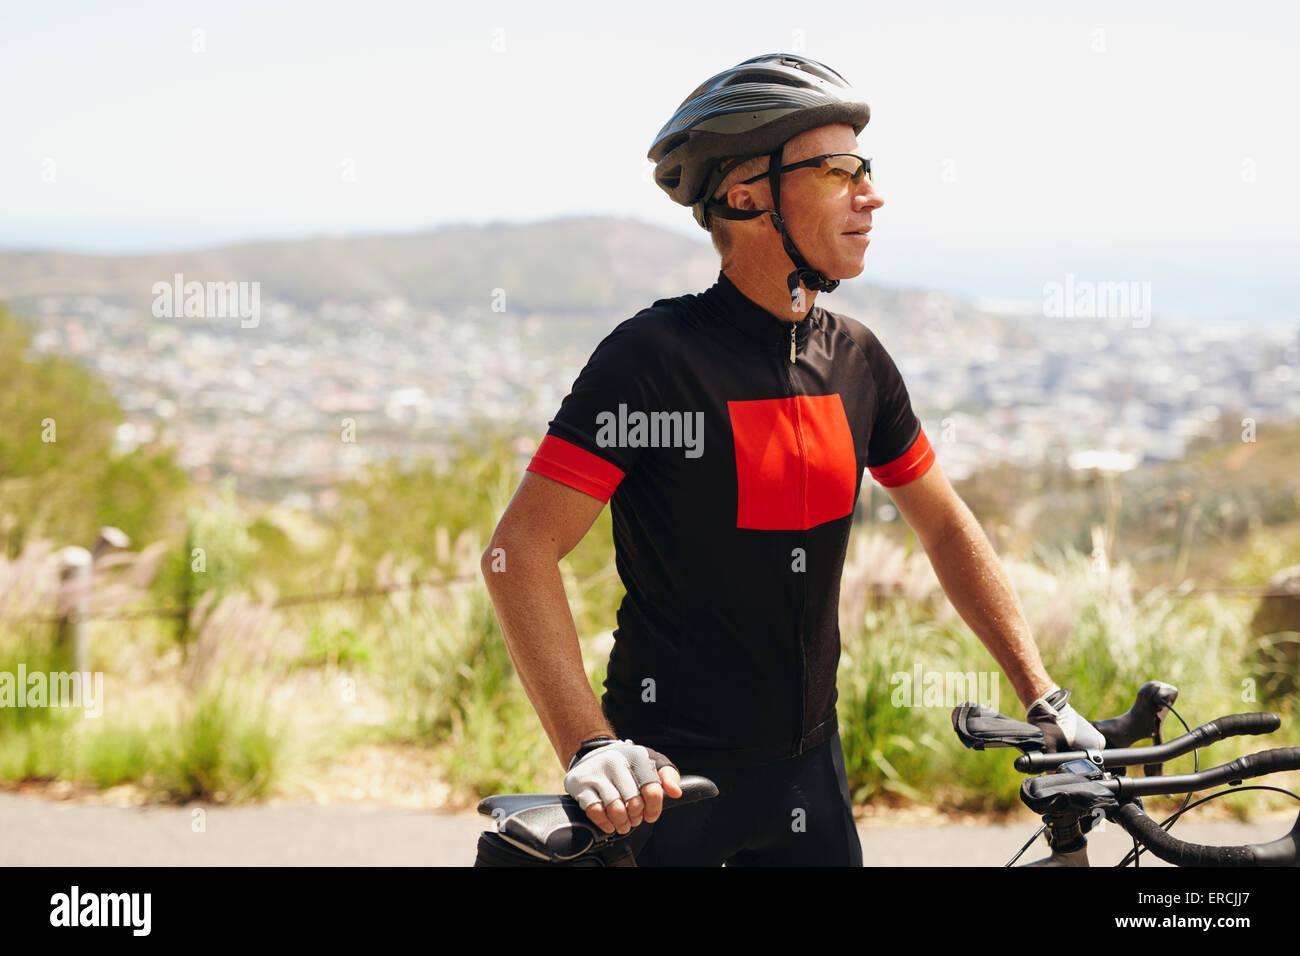Helmet: (649, 50, 888, 213)
